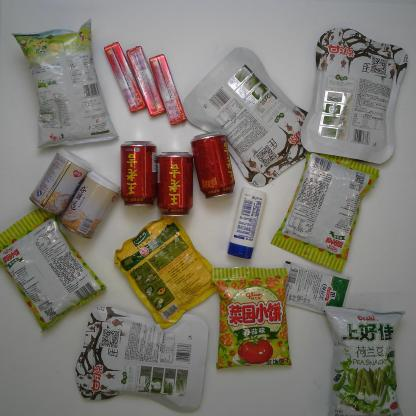Candy: (103, 41, 147, 113), (125, 45, 167, 117), (148, 53, 188, 126)
Canned Food: (28, 146, 93, 218), (60, 168, 121, 242)
Dried Fruit: (182, 44, 315, 187), (299, 25, 410, 166), (74, 303, 209, 413)
Drink: (189, 130, 236, 200), (119, 140, 158, 209), (157, 150, 194, 218)
Personal Hygiene: (226, 185, 270, 261)
Puffed Food: (10, 17, 121, 151), (270, 147, 382, 275), (2, 207, 109, 336), (321, 304, 408, 415), (211, 266, 297, 372)
Seasoner: (113, 214, 223, 330), (277, 260, 354, 318)
